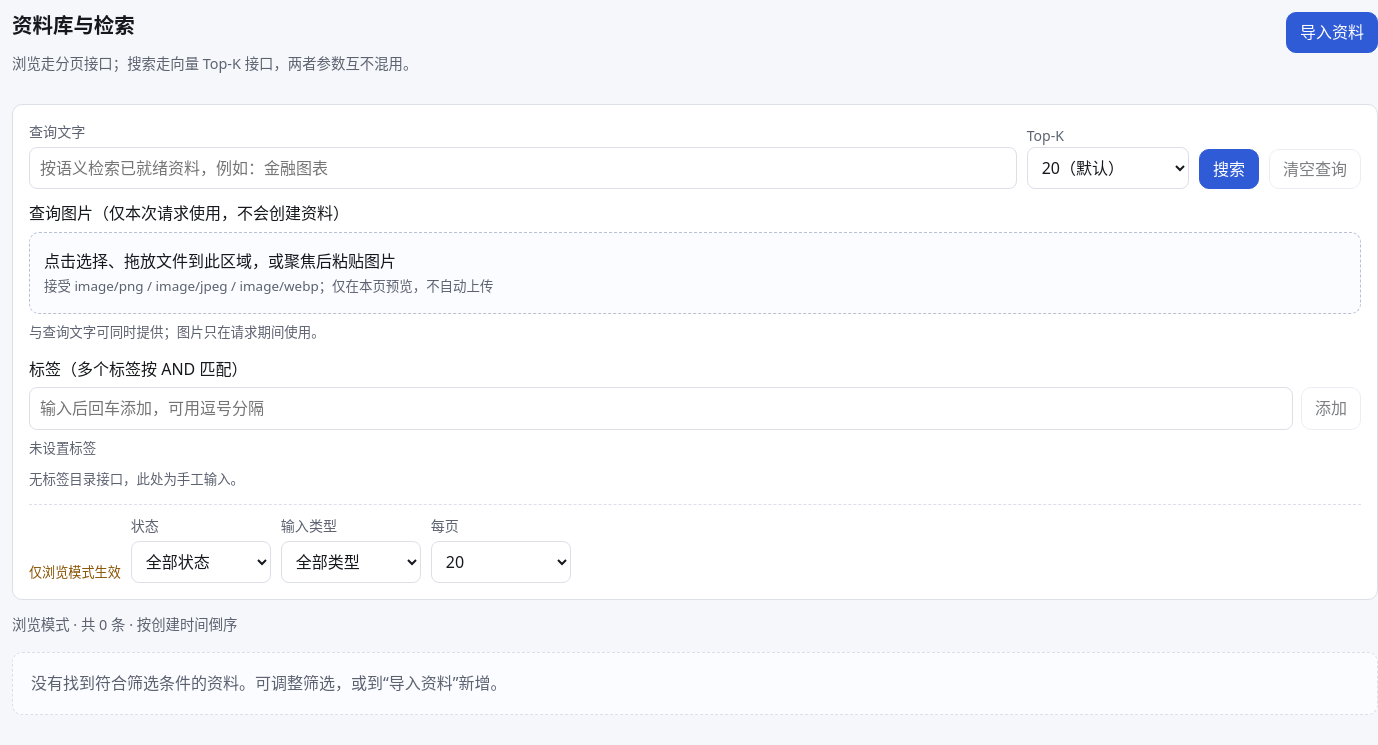
Test: library page › keeps a failed search from looking like an empty result
Check: the text "浏览模式 · 共 0 条 · 按创建时间倒序" is shown, box [12,615,238,634]
Type "金融" into the search field.
click(523, 168); type("金融")  # box [29,146,1017,189]
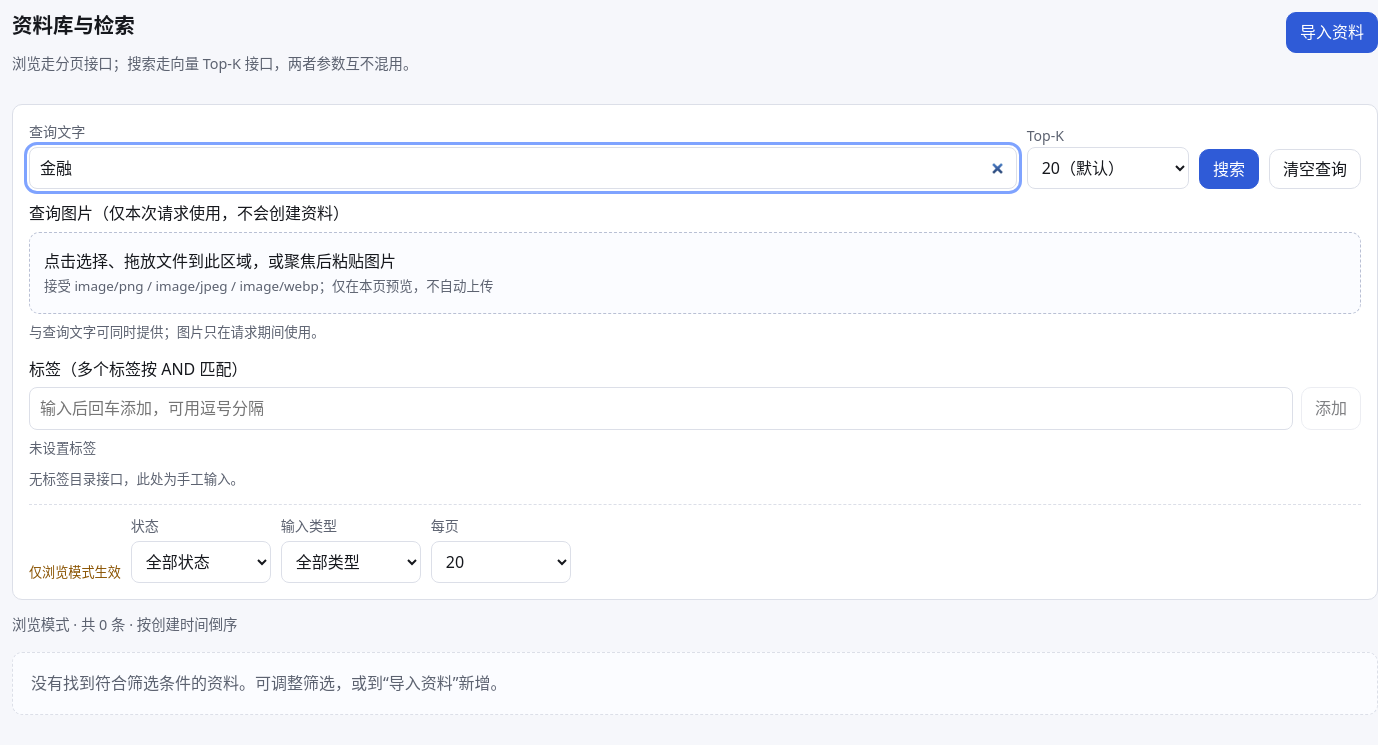
Click the button "搜索".
click(1229, 169)  # box [1199,148,1259,189]
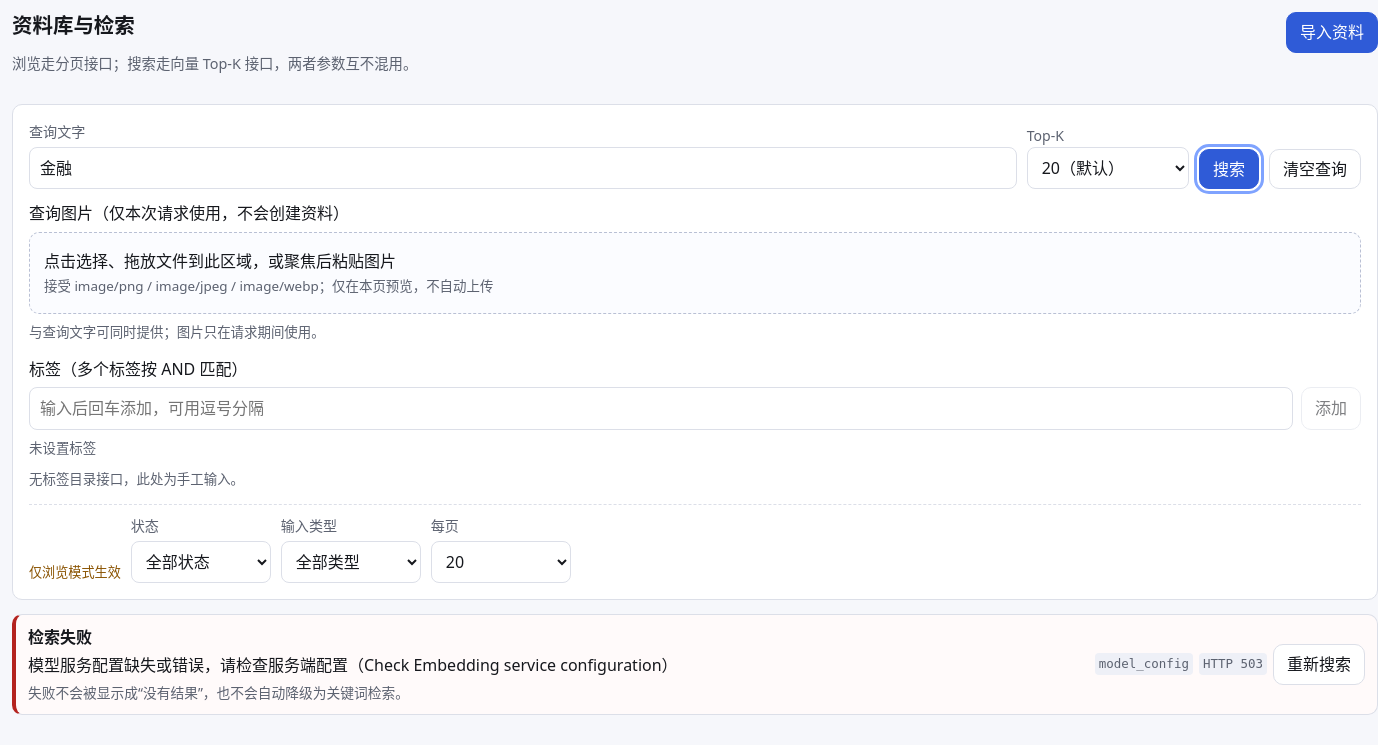
Check: the text "检索失败" is shown, box [28,626,92,648]
Check: the text "model_config" is shown, box [1095,653,1193,675]
Check: the button "重新搜索" is shown, box [1273,644,1365,684]
